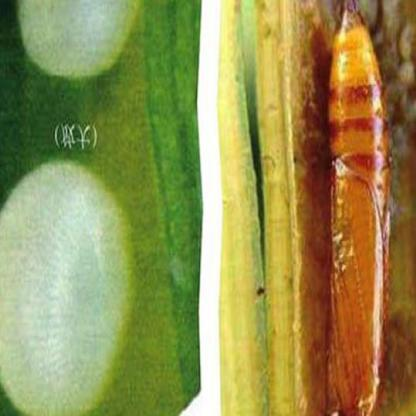whorl-maggot: (322, 0, 387, 416)
